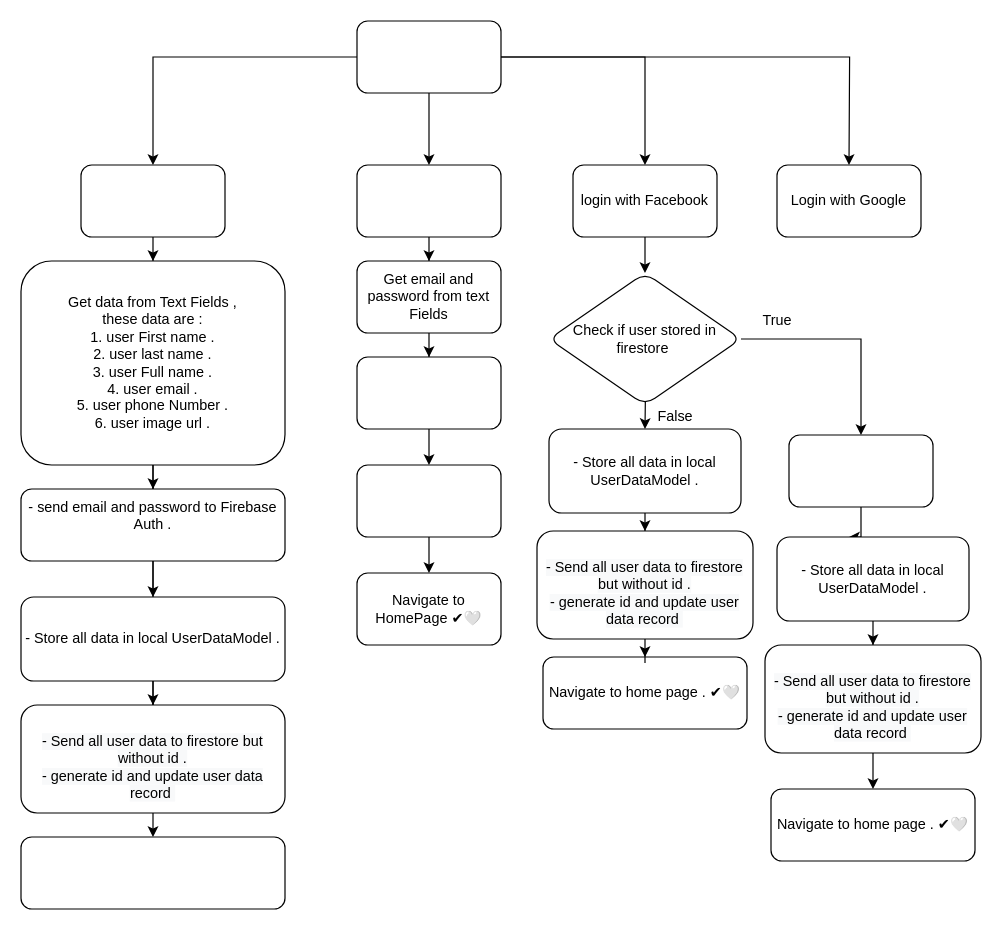
Some shapes in this 1002 by 930 pixel diagram are drawn without their labels. The shapes that lost their labels are listed below. From the top down, each one's centre as x and y in pixels, then its label:
At point (428, 56): "User Operations".
At point (152, 200): "User Register".
At point (428, 200): "User login".
At point (428, 392): "Fetch data from Firestore".
At point (860, 470): "Fetch data from fire store".
At point (428, 500): "Store fetched data in userDataModel".
At point (152, 872): "Navigate to Login page . ✔🤍".
